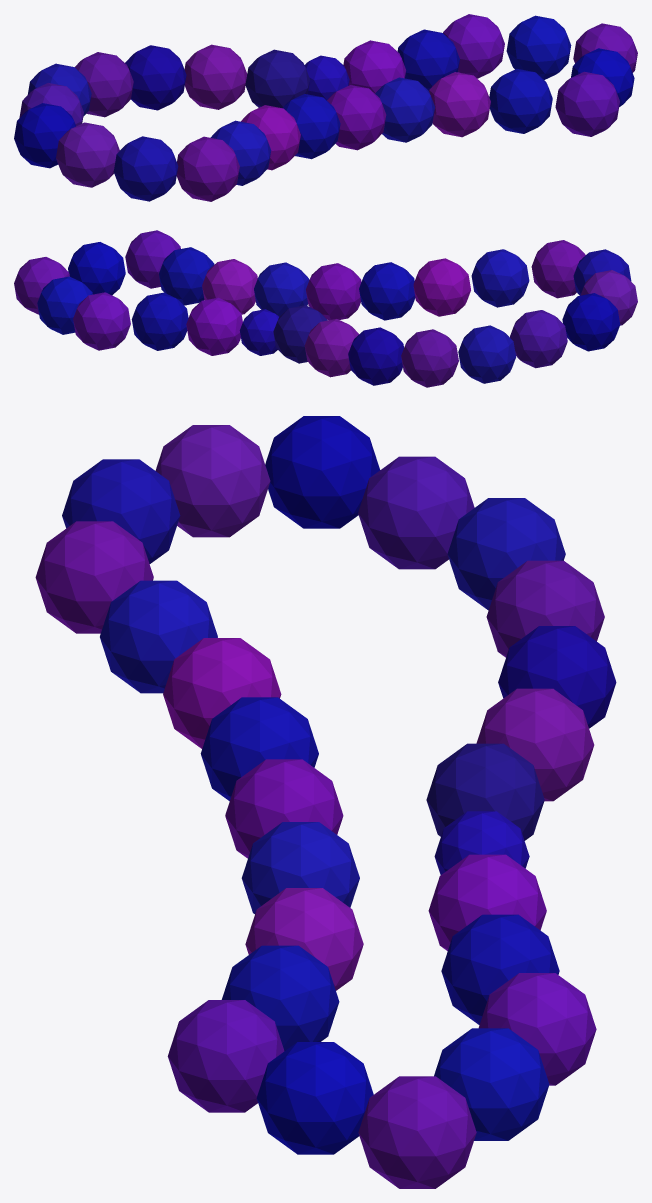
Rendered from Bead$12.fbx.
3 views of the same model, one above another, from view 1: azimuth 30°, elevation 25°; view 2: azimuth 150°, elevation 25°; view 3: azimuth 270°, elevation 25° (orthographic). The views are drawn at different scales.
Visible parts, largest first — view 1: Icosphere.024; view 2: Icosphere.024; view 3: Icosphere.024.
Boxes of the visible parts, bbox=[...] form: Icosphere.024: bbox=[14, 14, 637, 201]; Icosphere.024: bbox=[14, 230, 637, 387]; Icosphere.024: bbox=[35, 416, 616, 1188].
Bounding box in the file's own units: 1388 × 297 × 609.
